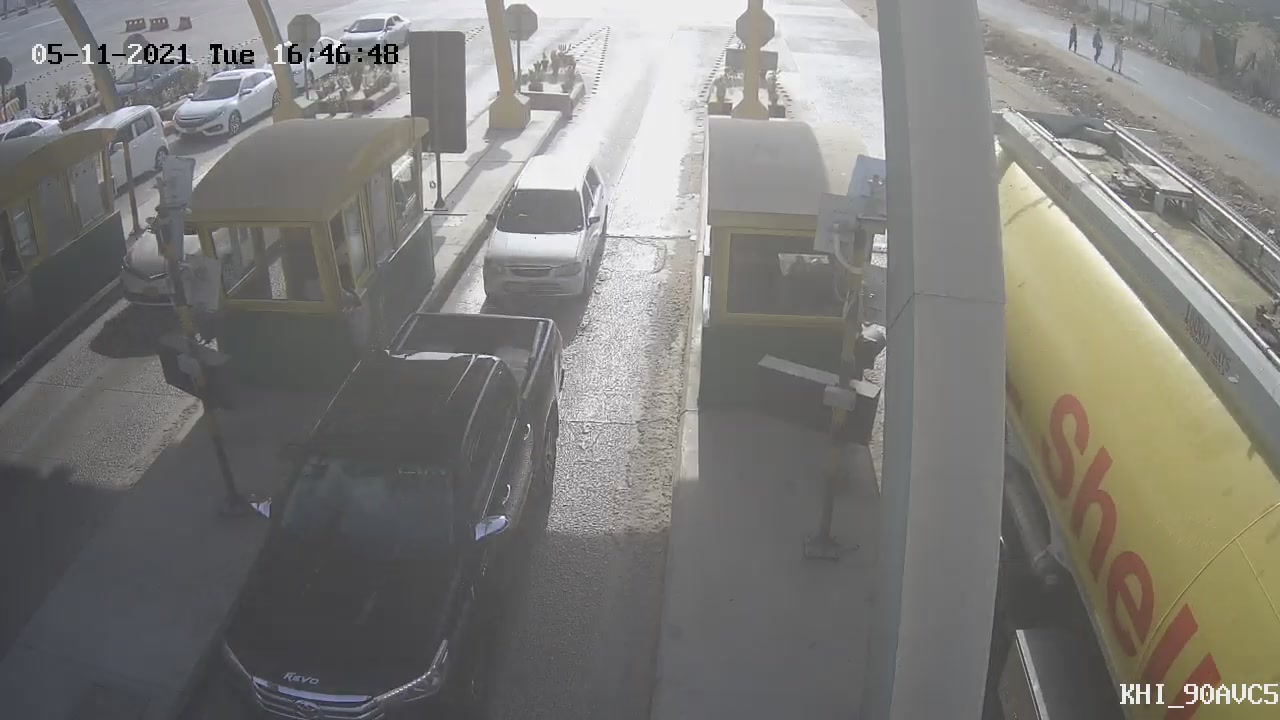F1: (470, 139, 621, 326)
